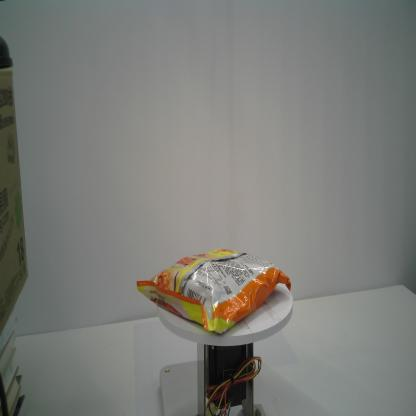Instant Noodles: (135, 247, 292, 337)
